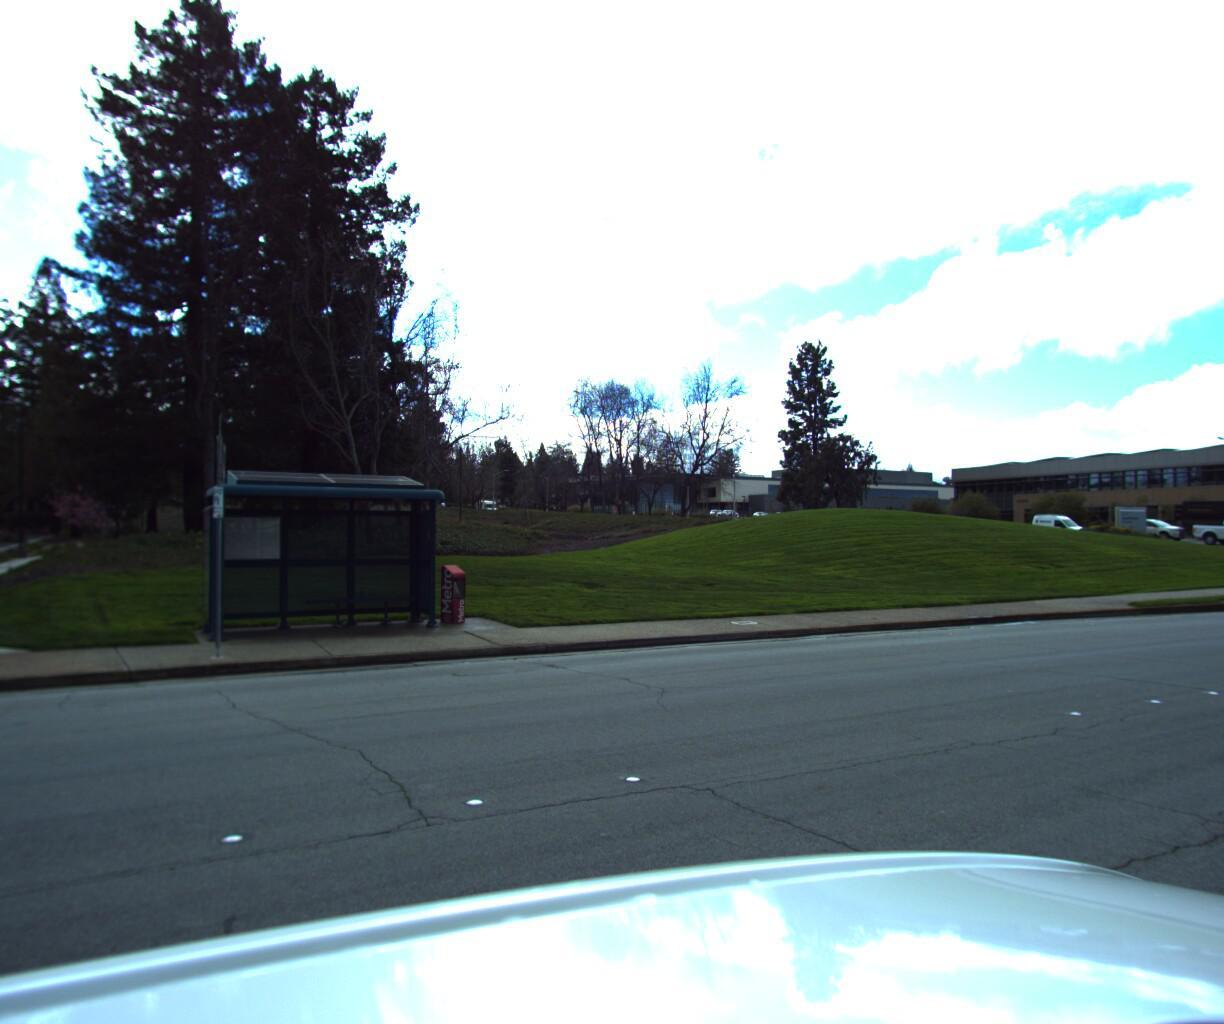car: (1110, 513, 1185, 536), (1024, 506, 1088, 534), (1184, 510, 1224, 543), (1216, 508, 1224, 539)
truck: (1170, 489, 1224, 538)
